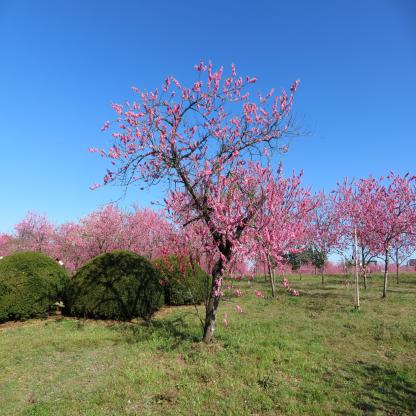Momo: (81, 52, 328, 329), (0, 202, 209, 272), (314, 166, 416, 274)
